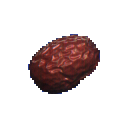gd: (14, 20, 110, 109)
